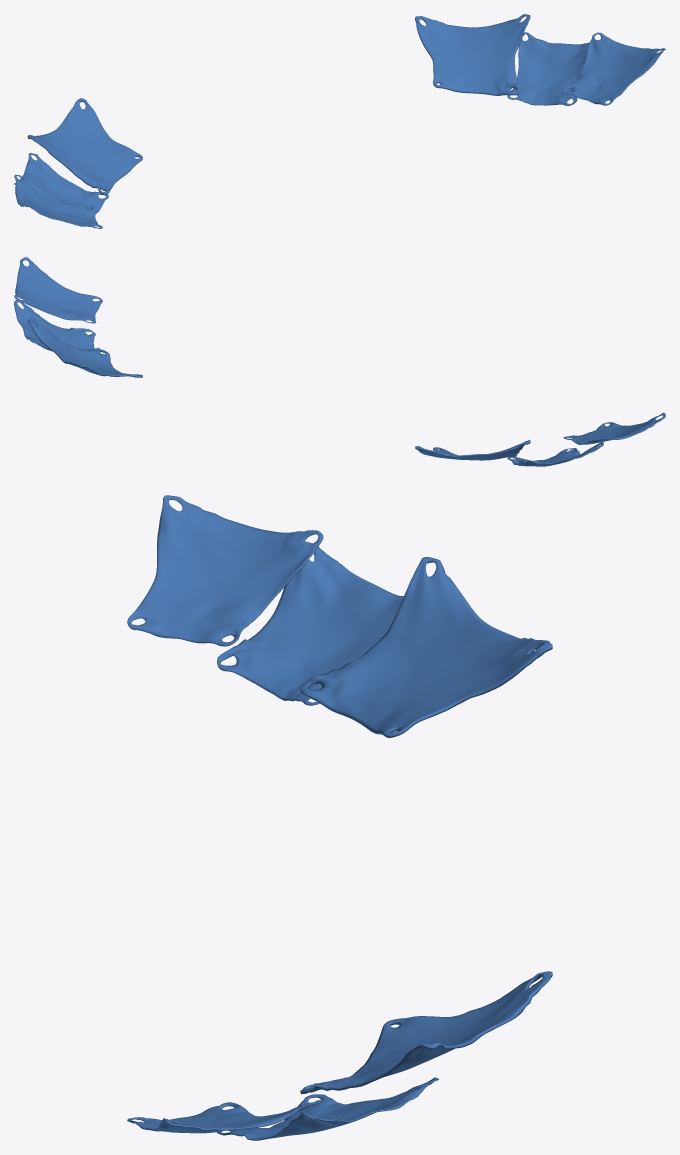
The model's file is tissue02.fbx.
3 renders of one model, top to bottom at view 1: azimuth 30°, elevation 25°; view 2: azimuth 150°, elevation 25°; view 3: azimuth 270°, elevation 25°, orthographic. The views are drawn at different scales.
Visible parts, largest first — view 1: toile, toile.002, toile.001; view 2: toile.002, toile, toile.001; view 3: toile, toile.002, toile.001.
Part boxes in pixels (x1,y1,x2,y2): toile: [27, 14, 530, 195]; toile.002: [14, 32, 665, 228]; toile.001: [14, 32, 589, 214]; toile.002: [14, 257, 665, 444]; toile: [27, 318, 530, 460]; toile.001: [14, 300, 603, 466]; toile: [300, 557, 552, 1094]; toile.002: [127, 495, 323, 1133]; toile.001: [217, 541, 438, 1140].
Bounding box in the file's own units: 4039 × 332 × 1155.
